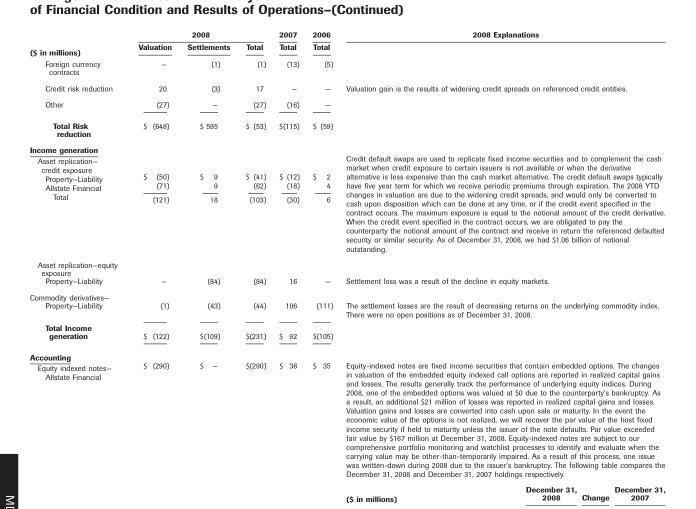table: (28, 28, 664, 477)
table column: (338, 28, 664, 477), (28, 28, 124, 477), (178, 28, 237, 477), (124, 28, 178, 477), (237, 28, 271, 477), (271, 28, 305, 477), (305, 28, 338, 477)
table column header: (28, 28, 664, 57)
table projected row header: (28, 256, 664, 276), (28, 345, 664, 360), (28, 141, 664, 153), (28, 288, 664, 300)
table row: (28, 360, 664, 477), (28, 153, 664, 256), (28, 114, 664, 141), (28, 320, 664, 345), (28, 57, 664, 79), (28, 256, 664, 276), (28, 300, 664, 320), (28, 95, 664, 114), (28, 40, 664, 57), (28, 79, 664, 95), (28, 345, 664, 360), (28, 28, 664, 40), (28, 141, 664, 153), (28, 276, 664, 288), (28, 288, 664, 300)
table spanning cell: (338, 28, 664, 57), (28, 28, 124, 57), (124, 28, 271, 40), (271, 28, 305, 57), (305, 28, 338, 57)
